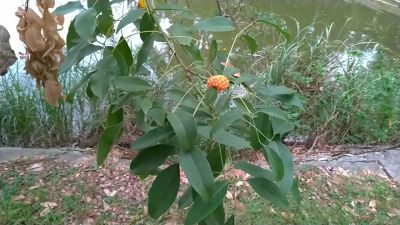eggs: (204, 70, 232, 92)
